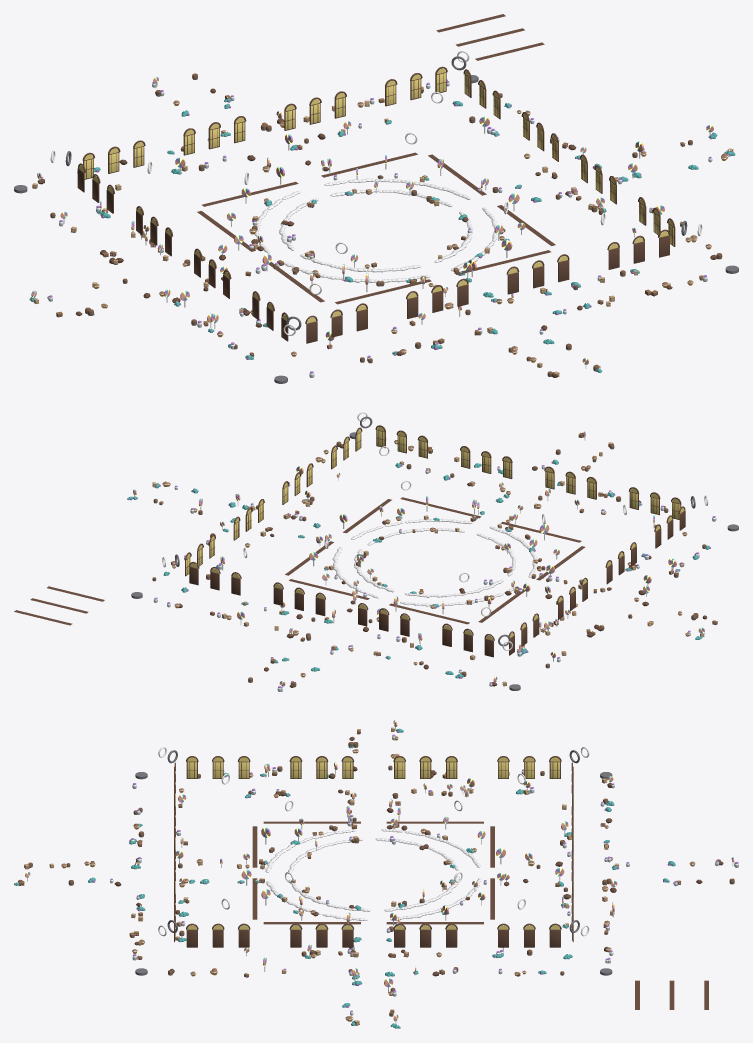
Rendered from ChocolateFactory_Decoration.fbx.
3 views of the same model, one above another, from view 1: azimuth 30°, elevation 25°; view 2: azimuth 150°, elevation 25°; view 3: azimuth 270°, elevation 25° (orthographic). The views are drawn at different scales.
Size of the model in its own units: 327 by 21.16 by 335.
